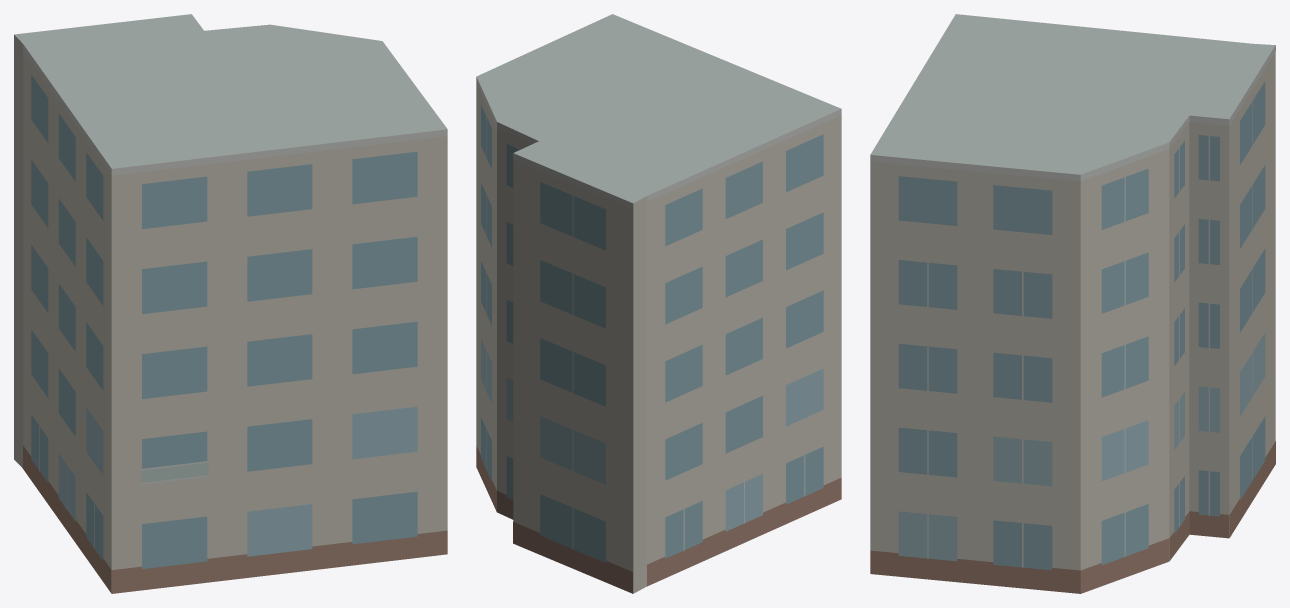
The model's file is survey-upis-32668309.glb.
The picture shows the model from 3 angles, left to right: view 1: azimuth 30°, elevation 25°; view 2: azimuth 150°, elevation 25°; view 3: azimuth 270°, elevation 25°; orthographic projection. The views are drawn at different scales.
Visible parts, largest first — view 1: survey-upis-32668309.tmp; view 2: survey-upis-32668309.tmp; view 3: survey-upis-32668309.tmp.
Boxes of the visible parts, box(x1,y1,x2,y2) form: survey-upis-32668309.tmp: box(14, 14, 447, 593); survey-upis-32668309.tmp: box(476, 14, 841, 593); survey-upis-32668309.tmp: box(870, 14, 1275, 593).
Size of the model in its own units: 12.65 by 15.36 by 13.48.
